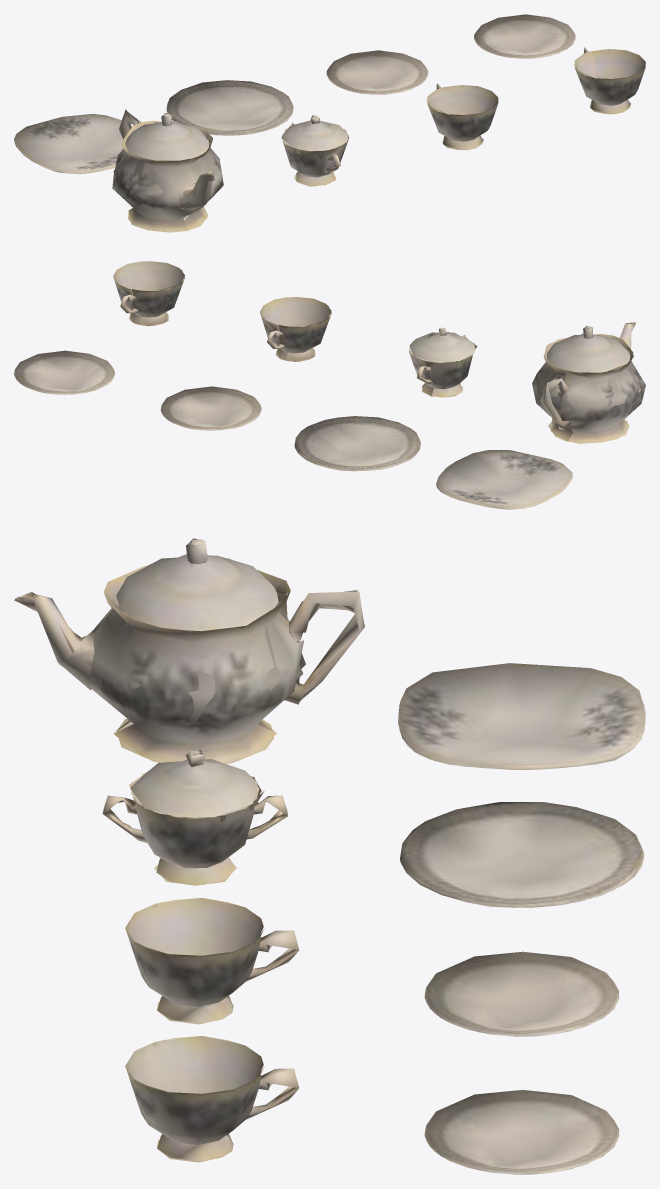
File: tea_set_01.glb
3 renders of one model, top to bottom at view 1: azimuth 30°, elevation 25°; view 2: azimuth 150°, elevation 25°; view 3: azimuth 270°, elevation 25°, orthographic. The views are drawn at different scales.
Parts seen in each view (by area): view 1: tea_set_01_plate_large_square_01; view 2: tea_set_01_plate_large_square_01; view 3: tea_set_01_plate_large_square_01.
Boxes of the visible parts, x1,y1,x2,y2 form: tea_set_01_plate_large_square_01: [14, 14, 645, 232]; tea_set_01_plate_large_square_01: [14, 261, 645, 509]; tea_set_01_plate_large_square_01: [14, 538, 645, 1174].
Bounding box in the file's own units: 0.9183 × 0.1652 × 0.4836.
1 material, 1 textured.
